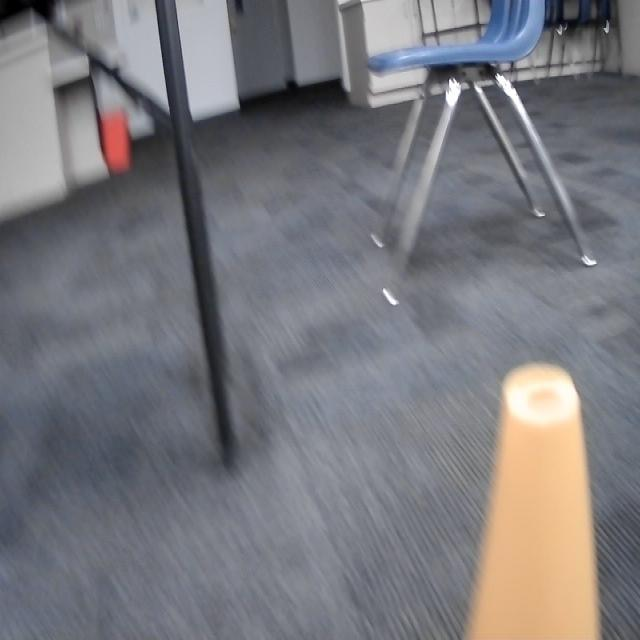cone: (445, 356, 608, 640)
